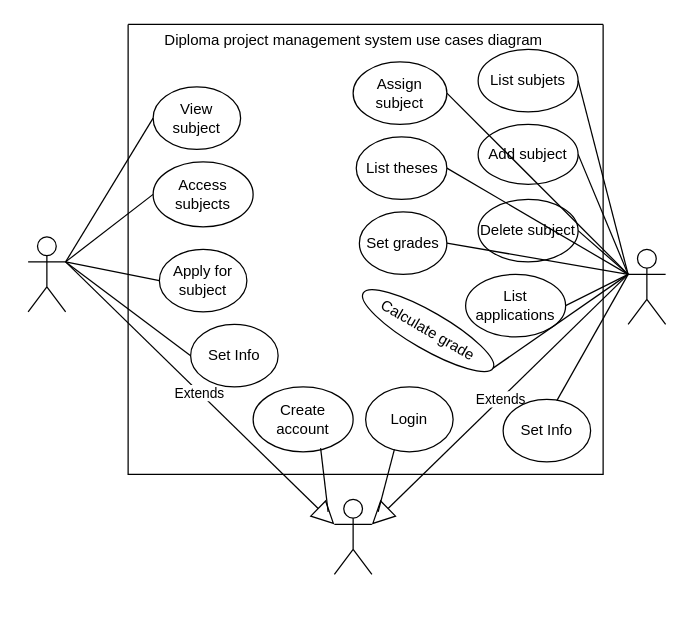
Some shapes in this 700 by 621 pixel diagram are drawn without their labels. Each missing label, with the box of its shape:
Professor: (627, 248, 666, 324)
Student: (27, 236, 66, 312)
User: (333, 498, 372, 574)
